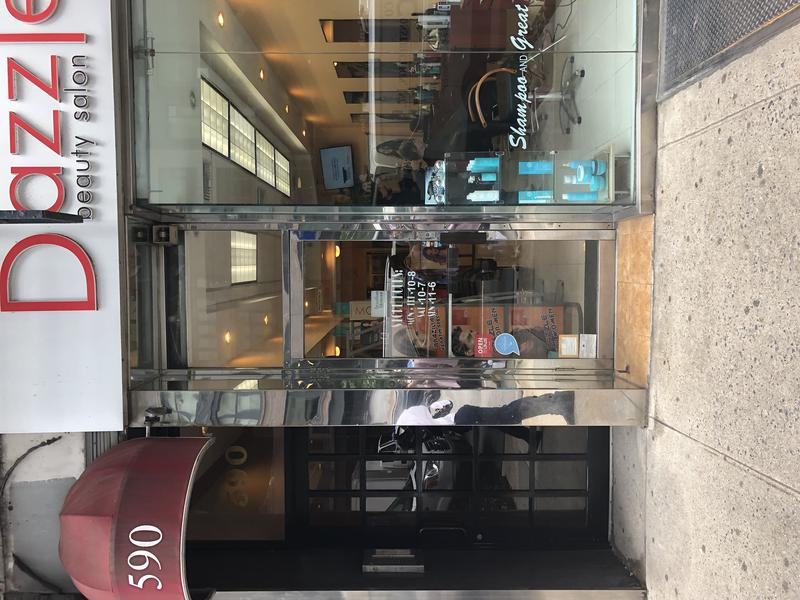door: (284, 226, 632, 379)
